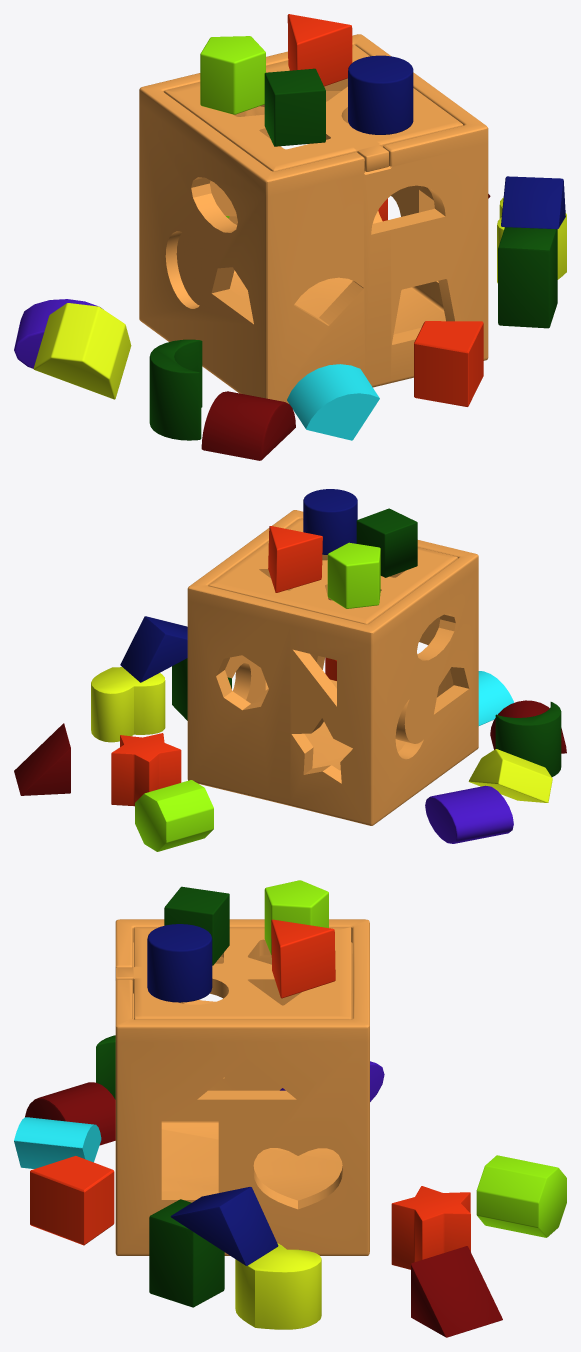
Rendered from WoodenPuzzle.FBX.
3 renders of one model, top to bottom at view 1: azimuth 30°, elevation 25°; view 2: azimuth 150°, elevation 25°; view 3: azimuth 270°, elevation 25°, orthographic. The views are drawn at different scales.
Visible parts, largest first — view 1: Box001, Object001, Cylinder012, Box006, Box008, Cylinder014, Cylinder021, Cylinder022, Cylinder005, Cylinder004, Box003, Cylinder006 (+3 smaller); view 2: Box001, Object001, Circle001, Cylinder027, Cylinder026, Cylinder017, Cylinder014, Cylinder004, Cylinder006, Cylinder011, Box003, Cylinder012 (+5 smaller); view 3: Box001, Object001, Circle001, Box008, Cylinder027, Box011, Box006, Cylinder026, Cylinder011, Cylinder005, Cylinder006, Cylinder021 (+4 smaller).
Boxes of the visible parts, x1=… form: Box001: x1=139, y1=34, x2=488, y2=403; Object001: x1=164, y1=44, x2=463, y2=171; Cylinder012: x1=33, y1=303, x2=131, y2=399; Box006: x1=498, y1=227, x2=557, y2=328; Box008: x1=414, y1=321, x2=483, y2=406; Cylinder014: x1=149, y1=339, x2=202, y2=440; Cylinder021: x1=287, y1=364, x2=379, y2=440; Cylinder022: x1=201, y1=391, x2=295, y2=460; Cylinder005: x1=348, y1=55, x2=413, y2=134; Cylinder004: x1=200, y1=36, x2=265, y2=114; Box003: x1=264, y1=68, x2=325, y2=146; Cylinder006: x1=287, y1=14, x2=352, y2=86; Box001: x1=187, y1=510, x2=478, y2=825; Object001: x1=208, y1=518, x2=457, y2=624; Circle001: x1=91, y1=667, x2=165, y2=742; Cylinder027: x1=135, y1=780, x2=213, y2=851; Cylinder026: x1=111, y1=733, x2=181, y2=806; Cylinder017: x1=425, y1=785, x2=513, y2=843; Cylinder014: x1=495, y1=702, x2=561, y2=776; Cylinder004: x1=327, y1=542, x2=380, y2=608; Cylinder006: x1=268, y1=526, x2=322, y2=592; Cylinder011: x1=120, y1=616, x2=187, y2=682; Box003: x1=356, y1=508, x2=417, y2=577; Cylinder012: x1=468, y1=749, x2=552, y2=802; Box001: x1=115, y1=919, x2=369, y2=1255; Object001: x1=115, y1=927, x2=351, y2=1019; Circle001: x1=235, y1=1243, x2=321, y2=1329; Box008: x1=30, y1=1156, x2=114, y2=1245; Cylinder027: x1=476, y1=1155, x2=566, y2=1237; Box011: x1=411, y1=1246, x2=502, y2=1337; Box006: x1=149, y1=1199, x2=224, y2=1307; Cylinder026: x1=391, y1=1186, x2=470, y2=1269; Cylinder011: x1=170, y1=1187, x2=278, y2=1265; Cylinder005: x1=147, y1=924, x2=212, y2=1002; Cylinder006: x1=271, y1=919, x2=335, y2=998; Cylinder021: x1=14, y1=1117, x2=101, y2=1168.
Size of what is drawn, in the model's own units: 54.15 by 27.15 by 47.83.
